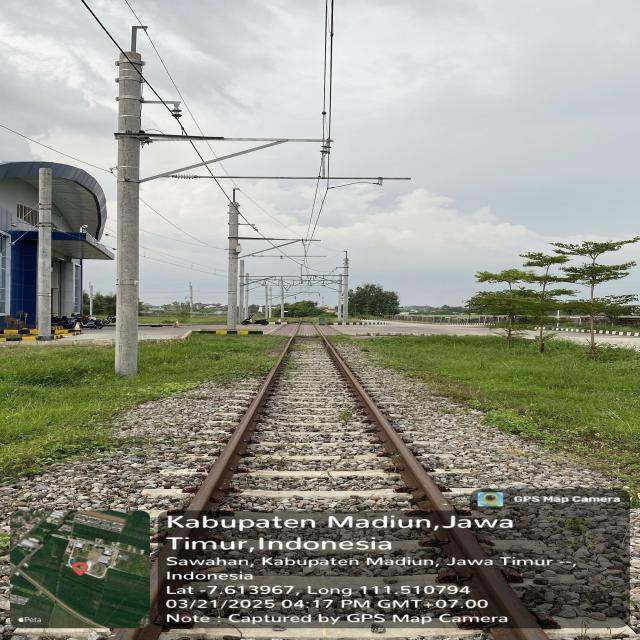rail-detection: (324, 340, 549, 640), (151, 338, 292, 630)
